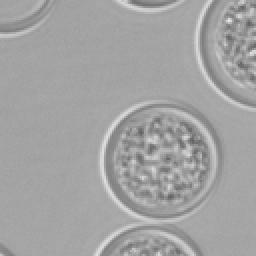picoshell: (100, 102, 220, 218), (194, 0, 254, 110), (94, 224, 200, 254), (114, 0, 184, 10), (0, 244, 12, 254)
